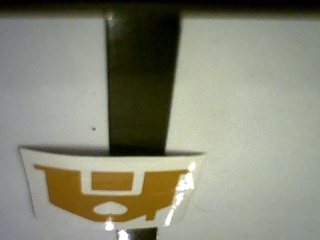Rescue_Station: (33, 163, 189, 224)
